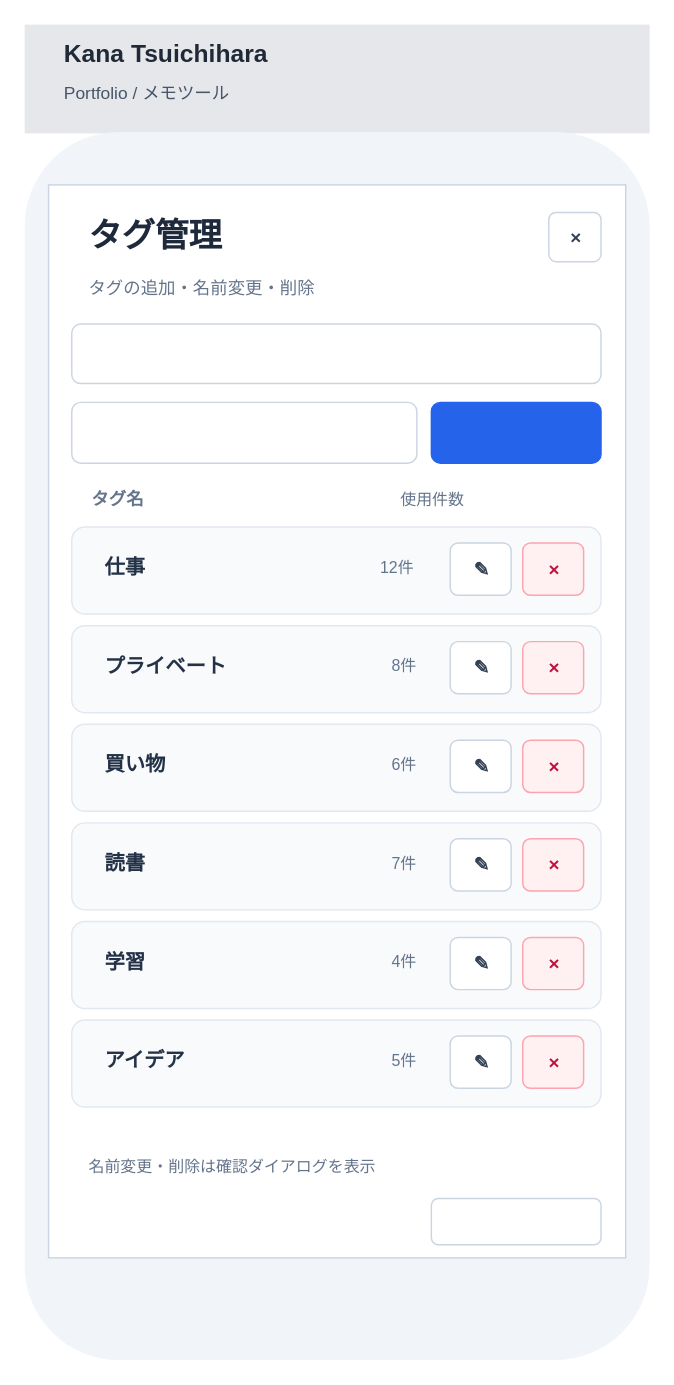
This 674x1385 diagram has some shape labels left out. Each missing label, with the centre of its shape:
タグを検索…: point (335, 353)
新しいタグ名（最大30文字）: point (243, 432)
閉じる: point (515, 1221)
＋ 作成: point (515, 432)
